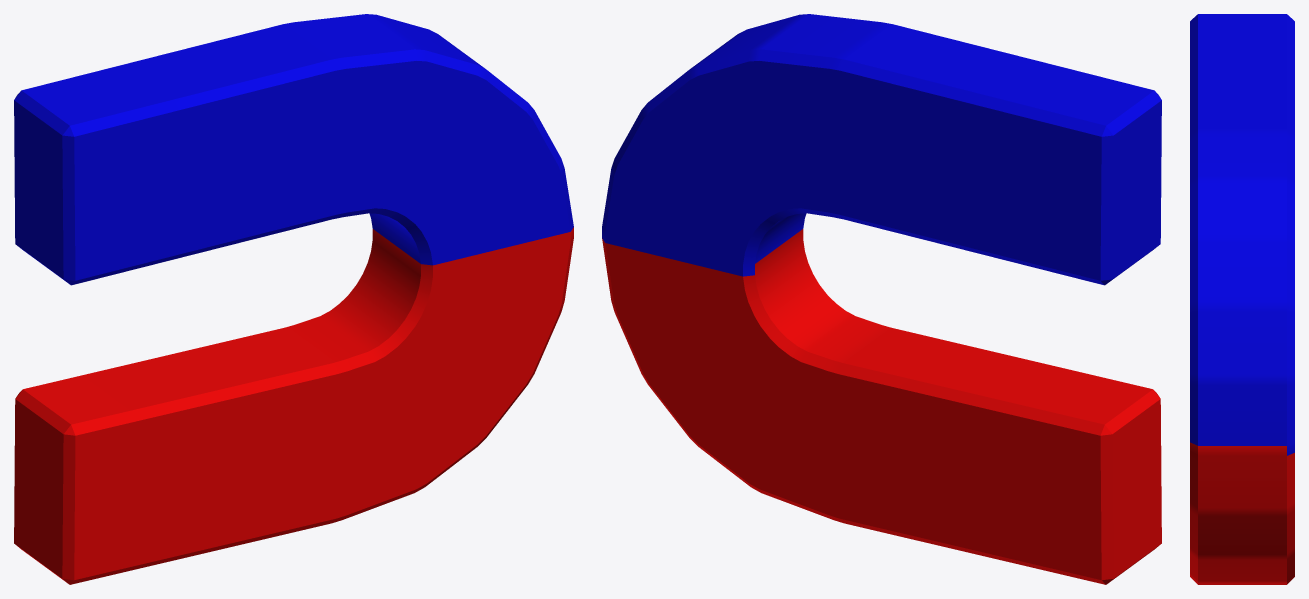
File: magnet.fbx
3 views of the same model, side by side, from view 1: azimuth 30°, elevation 25°; view 2: azimuth 150°, elevation 25°; view 3: azimuth 270°, elevation 25° (orthographic). The views are drawn at different scales.
Parts seen in each view (by area): view 1: pCube1; view 2: pCube1; view 3: pCube1.
Boxes of the visible parts, x1,y1,x2,y2 form: pCube1: (14,14,573,584); pCube1: (602,14,1161,584); pCube1: (1190,14,1294,584).
Size of the model in its own units: 3.35 by 2.9 by 0.6463.
